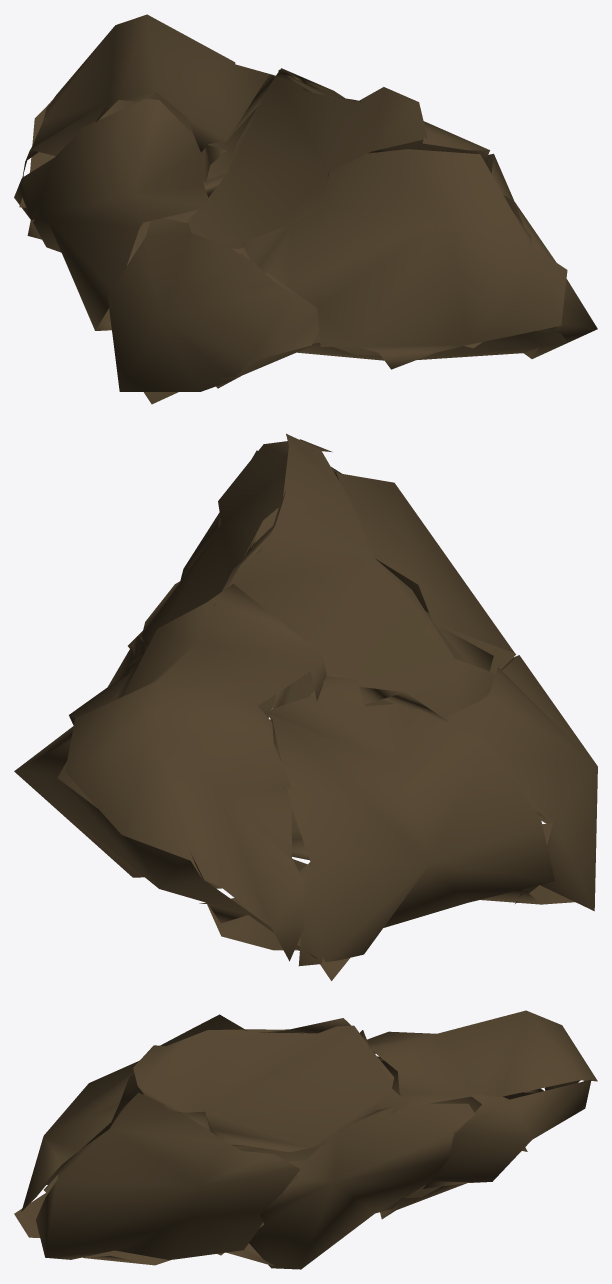
File: rock-mossy-a-lod1.glb
The picture shows the model from 3 angles, top to bottom: view 1: azimuth 30°, elevation 25°; view 2: azimuth 150°, elevation 25°; view 3: azimuth 270°, elevation 25°; orthographic projection. The views are drawn at different scales.
Parts seen in each view (by area): view 1: rock-mossy-a.001; view 2: rock-mossy-a.001; view 3: rock-mossy-a.001.
Boxes of the visible parts, x1,y1,x2,y2 form: rock-mossy-a.001: (14,14,597,404); rock-mossy-a.001: (14,433,597,980); rock-mossy-a.001: (14,1010,597,1269).
Size of the model in its own units: 2.28 by 1.61 by 3.42.
